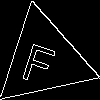F: (18, 34, 61, 87)
